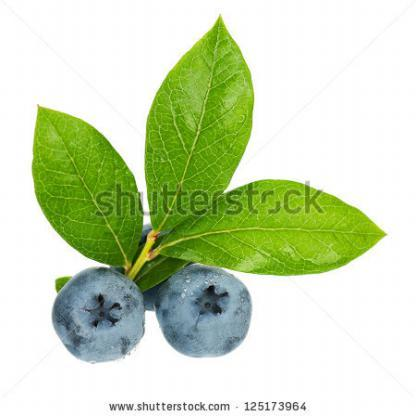Blueberry leaf: (145, 9, 255, 238), (173, 185, 401, 284), (25, 98, 148, 276)
